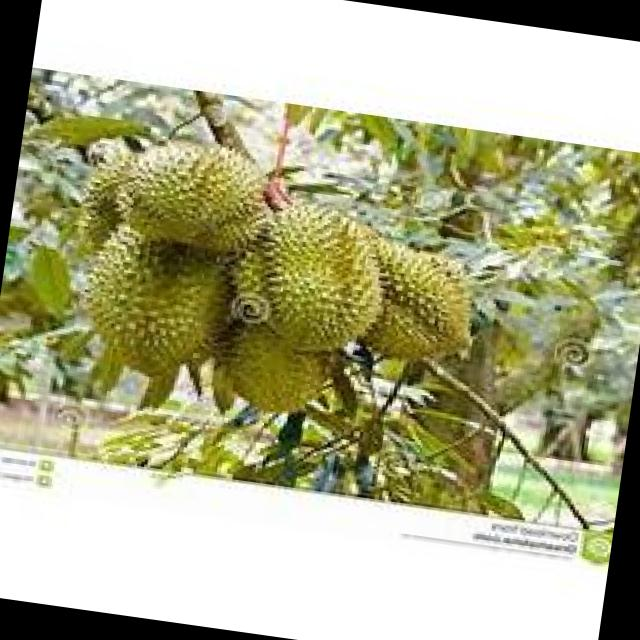fruit: (48, 108, 290, 402), (204, 164, 416, 444), (344, 214, 501, 392)
